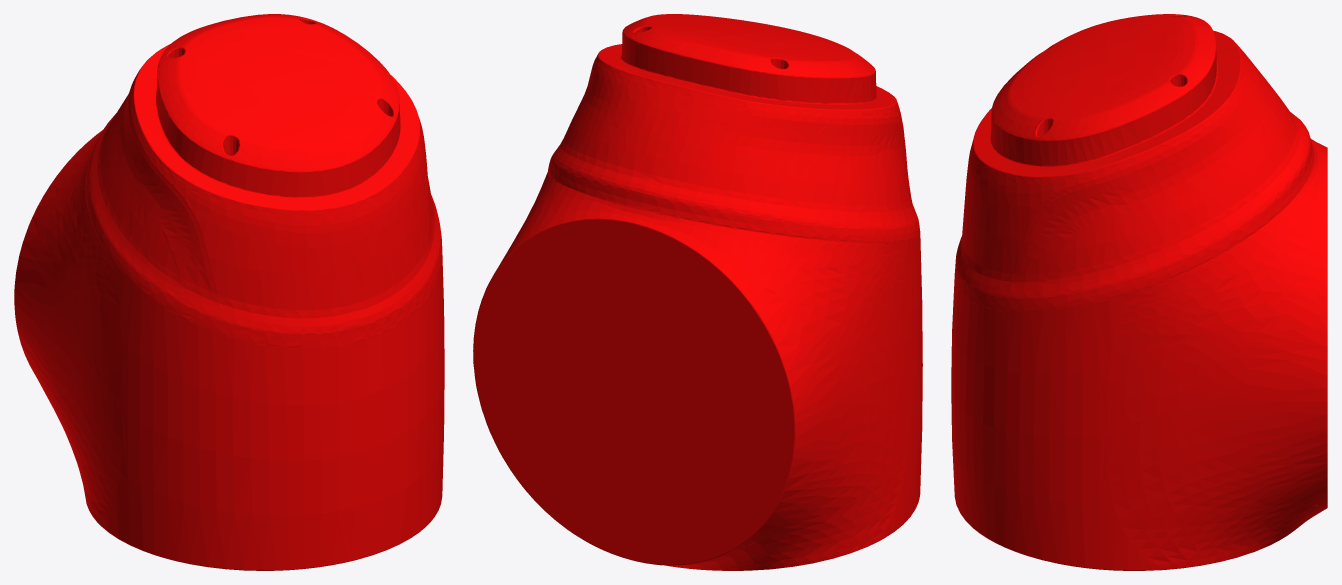
The picture shows the model from 3 angles, left to right: view 1: azimuth 30°, elevation 25°; view 2: azimuth 150°, elevation 25°; view 3: azimuth 270°, elevation 25°; orthographic projection. The views are drawn at different scales.
Parts seen in each view (by area): view 1: A0912_1_2; view 2: A0912_1_2; view 3: A0912_1_2.
Boxes of the visible parts, x1=… form: A0912_1_2: x1=14, y1=14, x2=444, y2=570; A0912_1_2: x1=473, y1=14, x2=922, y2=570; A0912_1_2: x1=951, y1=14, x2=1327, y2=570.
Size of the model in its own units: 161 by 163 by 217.
